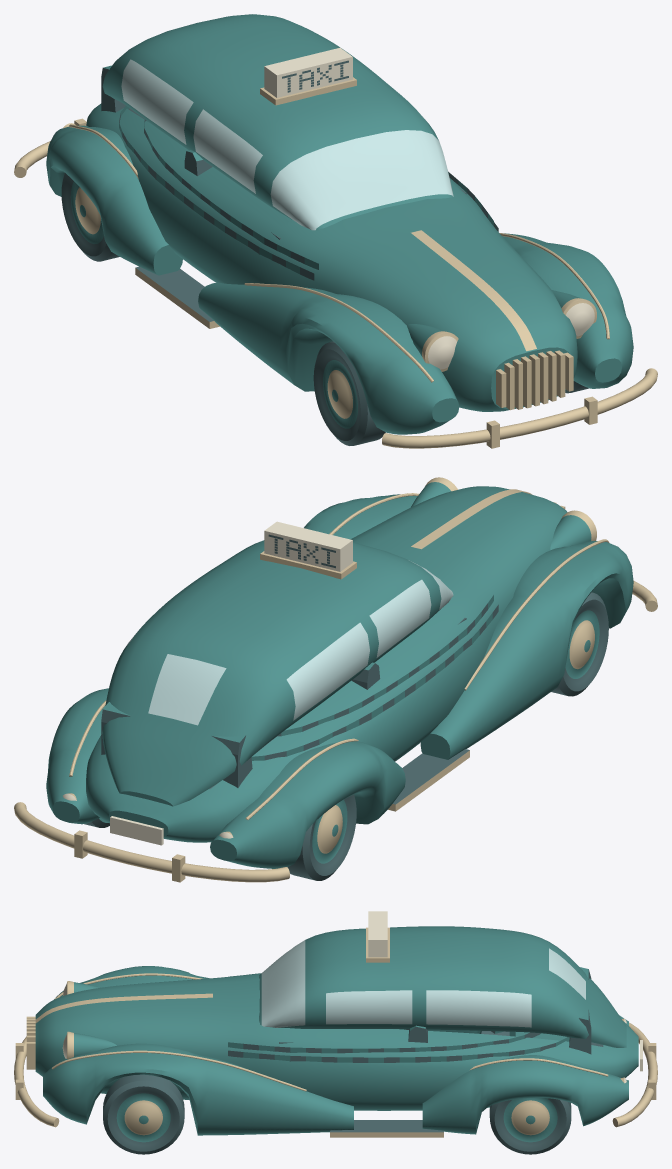
The model's file is KC32__AD_Ext_Car_Taxi.glb.
3 views of the same model, one above another, from view 1: azimuth 30°, elevation 25°; view 2: azimuth 150°, elevation 25°; view 3: azimuth 270°, elevation 25° (orthographic). The views are drawn at different scales.
Parts seen in each view (by area): view 1: KC32_CORPS__AD_Ext_Car_Taxi, KC32_VITRAGE__AD_Ext_Car_Taxi, KC32_BRONZE__AD_Ext_Car_Taxi, KC32_LUMIERE__AD_Ext_Car_Taxi; view 2: KC32_CORPS__AD_Ext_Car_Taxi, KC32_BRONZE__AD_Ext_Car_Taxi, KC32_VITRAGE__AD_Ext_Car_Taxi, KC32_LUMIERE__AD_Ext_Car_Taxi; view 3: KC32_CORPS__AD_Ext_Car_Taxi, KC32_VITRAGE__AD_Ext_Car_Taxi, KC32_BRONZE__AD_Ext_Car_Taxi, KC32_LUMIERE__AD_Ext_Car_Taxi.
Part boxes in pixels (x1,y1,x2,y2): KC32_CORPS__AD_Ext_Car_Taxi: [46, 14, 633, 445]; KC32_VITRAGE__AD_Ext_Car_Taxi: [121, 59, 453, 230]; KC32_BRONZE__AD_Ext_Car_Taxi: [14, 77, 657, 448]; KC32_LUMIERE__AD_Ext_Car_Taxi: [264, 47, 594, 369]; KC32_CORPS__AD_Ext_Car_Taxi: [46, 482, 633, 880]; KC32_BRONZE__AD_Ext_Car_Taxi: [14, 477, 657, 882]; KC32_VITRAGE__AD_Ext_Car_Taxi: [125, 560, 453, 725]; KC32_LUMIERE__AD_Ext_Car_Taxi: [63, 521, 352, 845]; KC32_CORPS__AD_Ext_Car_Taxi: [35, 926, 638, 1154]; KC32_VITRAGE__AD_Ext_Car_Taxi: [261, 940, 585, 1027]; KC32_BRONZE__AD_Ext_Car_Taxi: [14, 927, 657, 1137]; KC32_LUMIERE__AD_Ext_Car_Taxi: [62, 911, 642, 1083].
Size of the model in its own units: 2.12 by 1.69 by 5.36.
